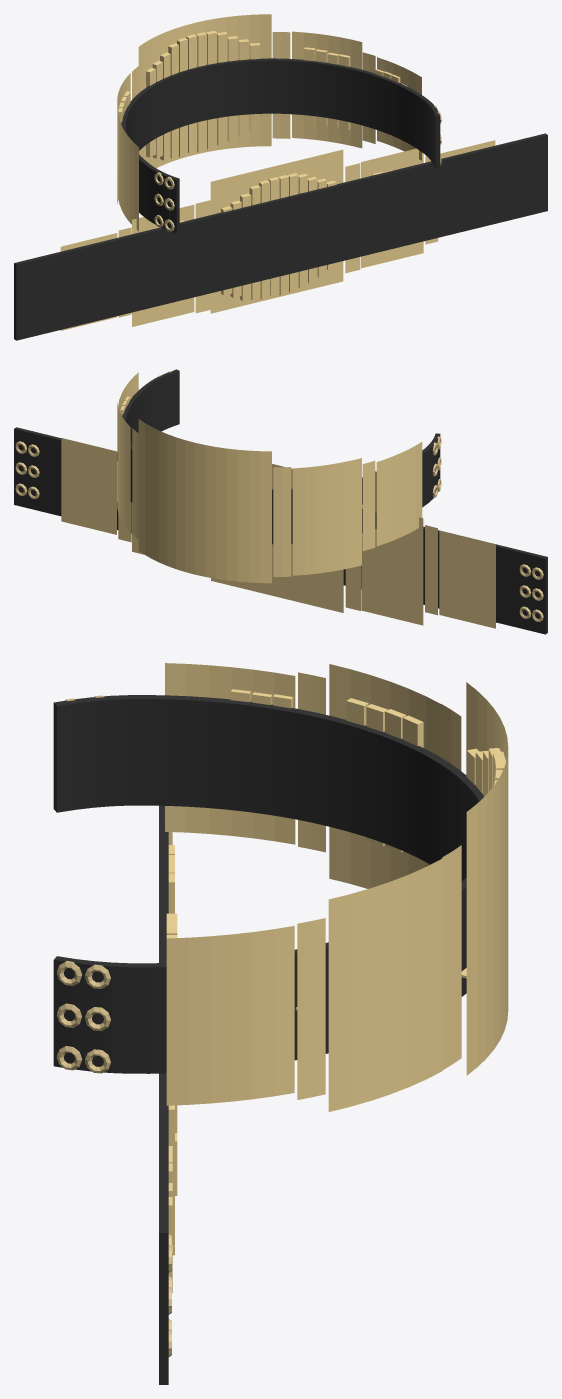
The model's file is aew_title.glb.
3 views of the same model, one above another, from view 1: azimuth 30°, elevation 25°; view 2: azimuth 150°, elevation 25°; view 3: azimuth 270°, elevation 25° (orthographic). The views are drawn at different scales.
Visible parts, largest first — view 1: HeldStrap, TitleStrap, TitleArt, HeldArt, TitleGold, HeldGold, TitleSnap; view 2: TitleArt, HeldArt, HeldStrap, TitleStrap, HeldSnap, TitleSnap; view 3: TitleArt, TitleStrap, HeldStrap, TitleGold, TitleSnap, HeldGold.
Part boxes in pixels (x1,y1,x2,y2): HeldStrap: [14, 133, 547, 340]; TitleStrap: [121, 58, 440, 233]; TitleArt: [117, 14, 421, 231]; HeldArt: [60, 140, 495, 330]; TitleGold: [118, 31, 407, 170]; HeldGold: [144, 170, 392, 300]; TitleSnap: [154, 105, 441, 231]; TitleArt: [117, 372, 422, 583]; HeldArt: [61, 438, 495, 628]; HeldStrap: [14, 427, 547, 634]; TitleStrap: [122, 369, 440, 544]; HeldSnap: [15, 441, 543, 621]; TitleSnap: [157, 371, 441, 497]; TitleArt: [165, 663, 508, 1111]; TitleStrap: [53, 695, 483, 1073]; HeldStrap: [159, 805, 168, 1384]; TitleGold: [230, 689, 505, 1010]; TitleSnap: [56, 695, 110, 1073]; HeldGold: [166, 832, 177, 1293].
Size of the model in its own units: 1.04 by 0.4027 by 0.3867.
